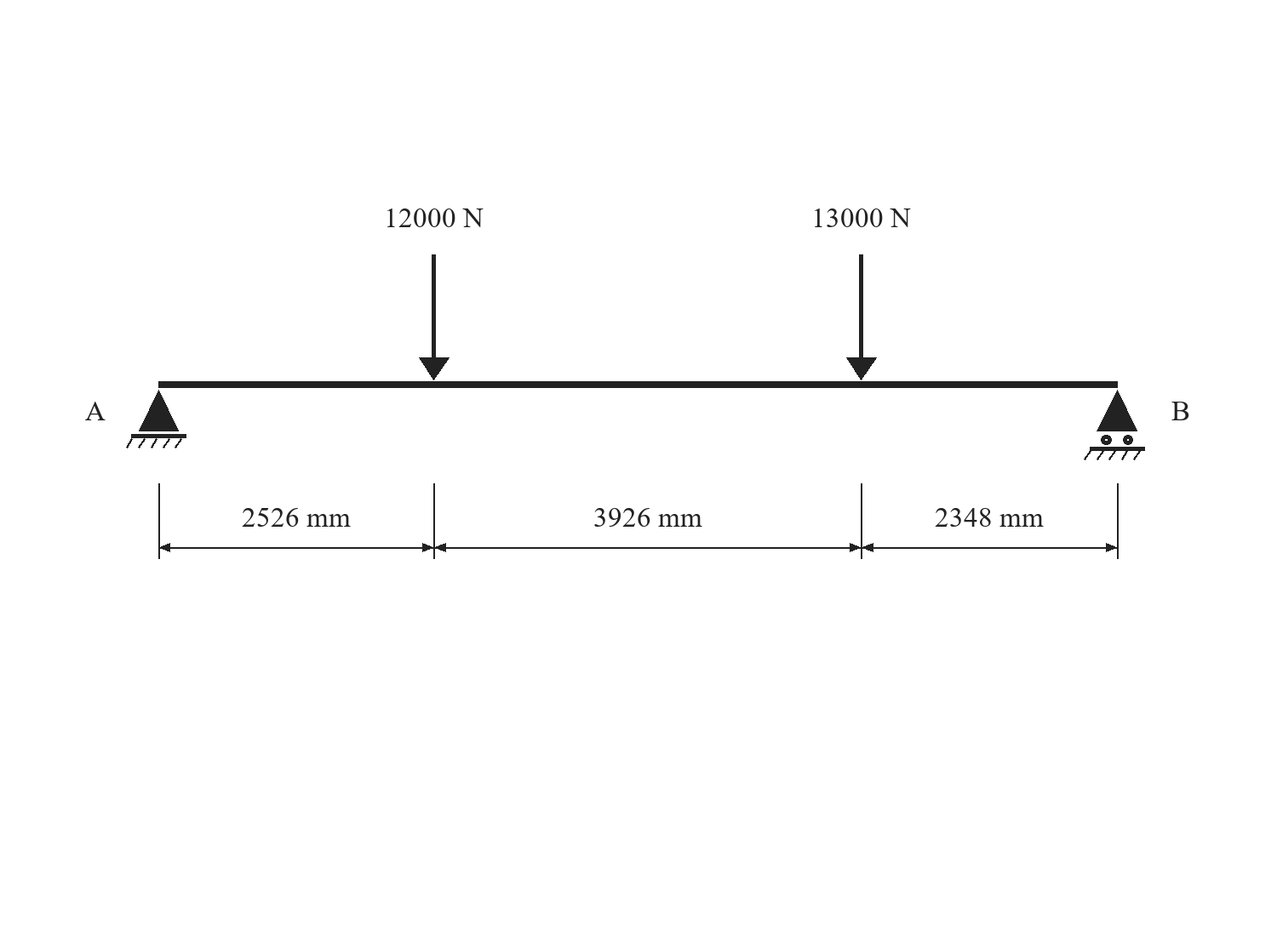pin_support: (126, 390, 186, 448)
point_load: (419, 254, 450, 380), (846, 254, 877, 380)
roller_support: (1084, 390, 1145, 460)
